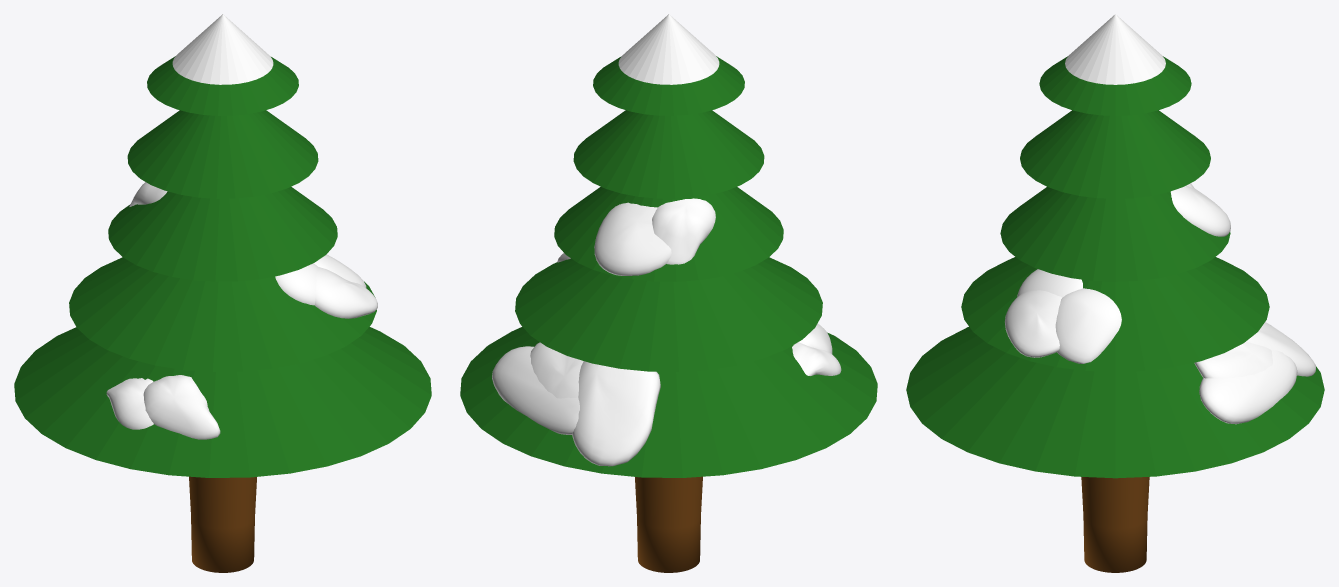
Rendered from tree.glb.
3 views of the same model, side by side, from view 1: azimuth 30°, elevation 25°; view 2: azimuth 150°, elevation 25°; view 3: azimuth 270°, elevation 25° (orthographic).
Parts seen in each view (by area): view 1: Circle; view 2: Circle; view 3: Circle.
Boxes of the visible parts, x1,y1,x2,y2 form: Circle: [14, 14, 431, 572]; Circle: [460, 14, 877, 572]; Circle: [906, 14, 1324, 572].
Bounding box in the file's own units: 5.02 × 7.22 × 5.02.
